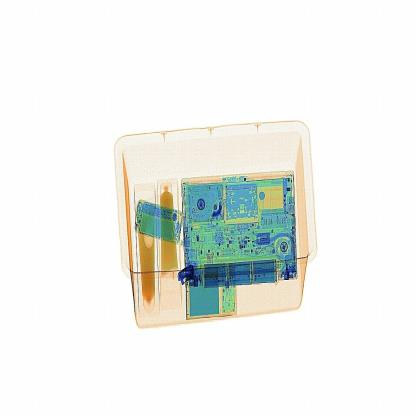knife: (179, 260, 196, 286)
